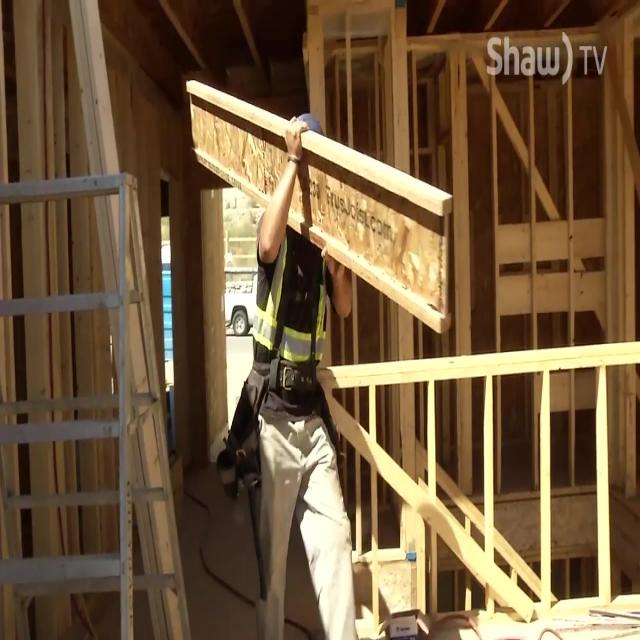Reflective-Jacket: (248, 228, 337, 407)
